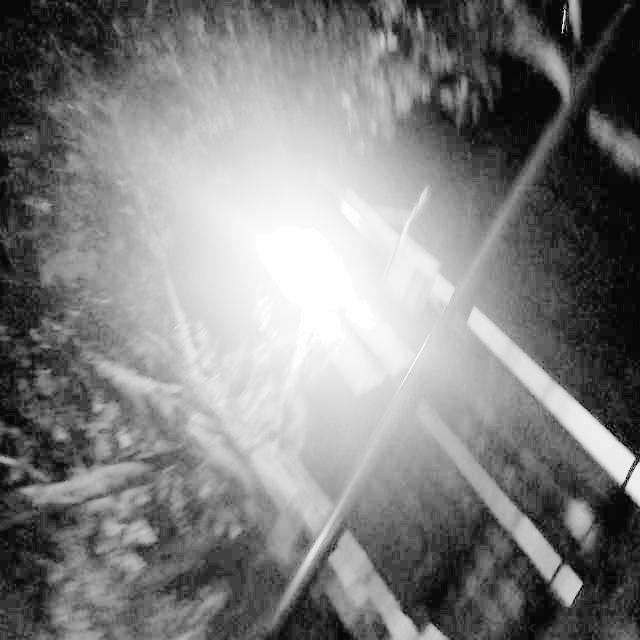Light: (261, 215, 350, 316)
Tree: (90, 252, 379, 637)
